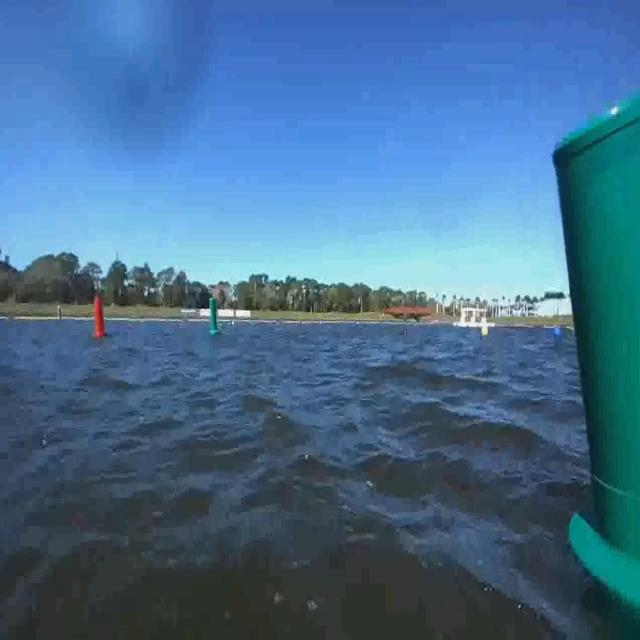green-column-buoy: (534, 76, 640, 640), (206, 290, 226, 337)
red-column-buoy: (90, 281, 111, 352)
